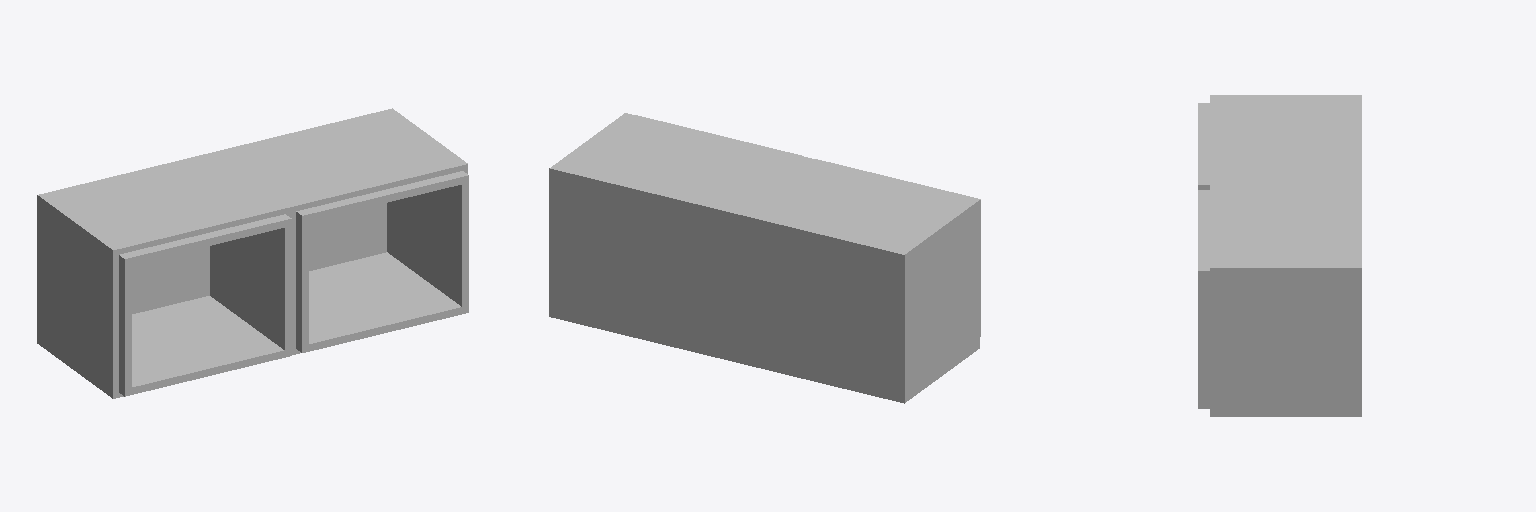
The model's file is armadio.obj.
The picture shows the model from 3 angles: view 1: azimuth 30°, elevation 25°; view 2: azimuth 150°, elevation 25°; view 3: azimuth 270°, elevation 25°; orthographic projection.
Parts seen in each view (by area): view 1: obj_0; view 2: obj_0; view 3: obj_0.
Boxes of the visible parts, box(x1,y1,x2,y2) form: obj_0: box(37, 108, 468, 398); obj_0: box(549, 113, 980, 403); obj_0: box(1198, 95, 1361, 416).
Bounding box in the file's own units: 50 × 20 × 20.